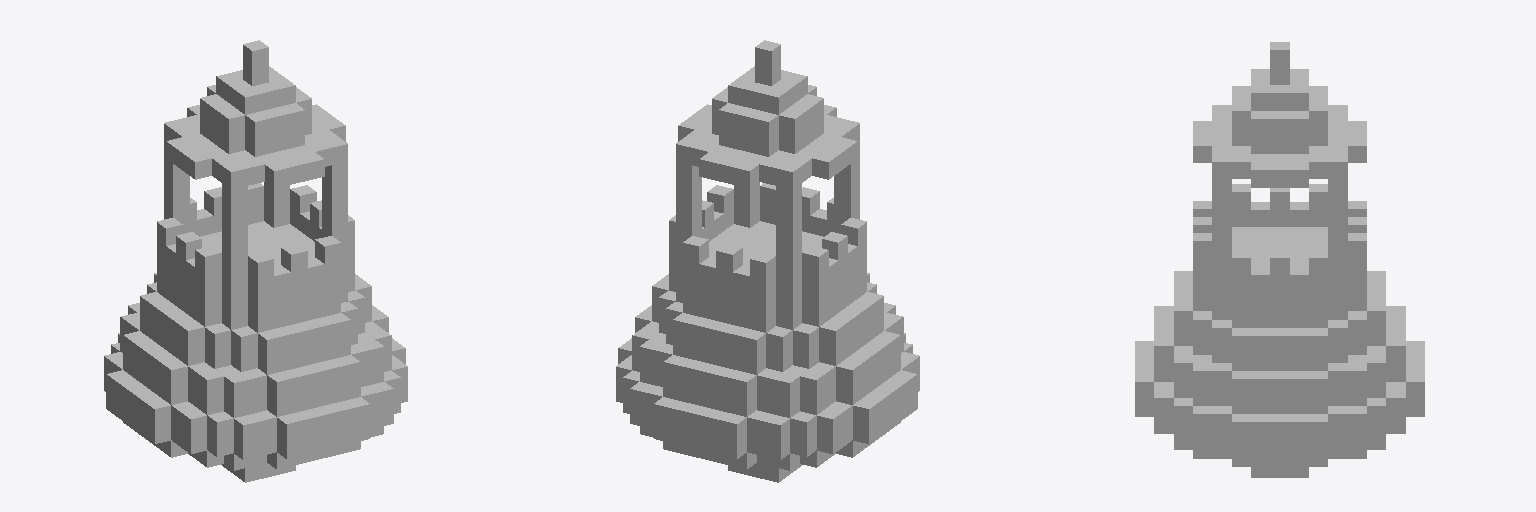
The model's file is Tree_house.obj.
3 views of the same model, side by side, from view 1: azimuth 30°, elevation 25°; view 2: azimuth 150°, elevation 25°; view 3: azimuth 270°, elevation 25° (orthographic).
Bounding box in the file's own units: 15 × 24 × 15.